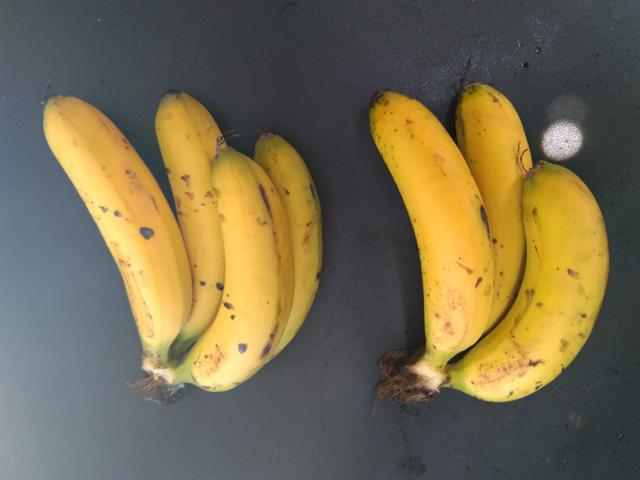ripe: (364, 67, 496, 407), (453, 162, 619, 419), (33, 84, 186, 356), (160, 138, 297, 439)
